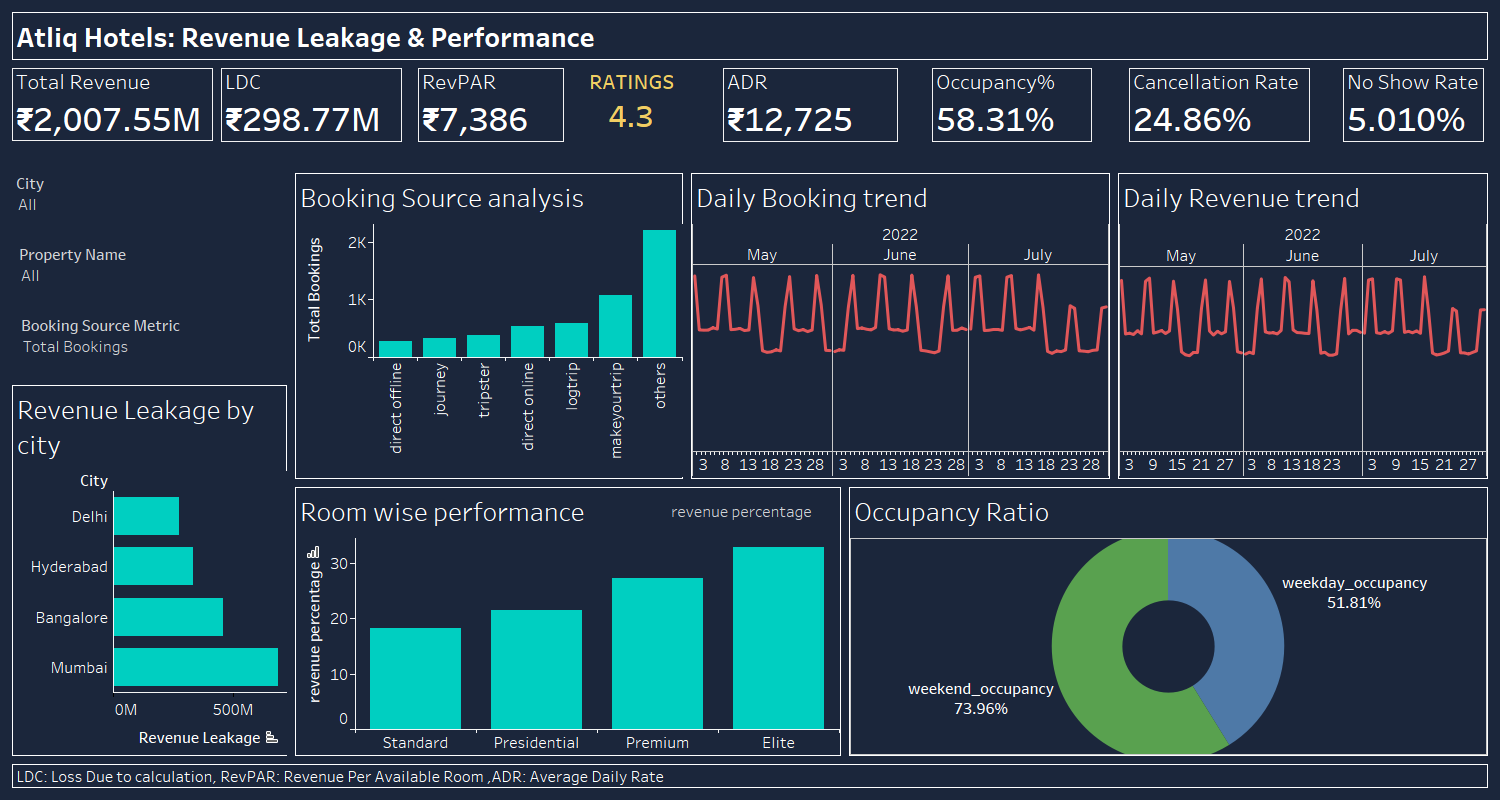

This screenshot's page, from the dashboard's own definition file:
{"tool":"tableau","page":{"name":"Dashboard 1 (2)","canvas":[1500,800],"ordinal":0},"visuals":[{"type":"title","box":[8,8,1484,56]},{"type":"worksheet","title":"Total Revenue","mark":"Automatic","box":[8,64,209,81]},{"type":"worksheet","title":"LDC","mark":"Automatic","box":[217,64,197,82]},{"type":"worksheet","title":"Revpar","mark":"Automatic","box":[414,64,167,82]},{"type":"worksheet","title":"Rating","mark":"Automatic","box":[581,64,138,77]},{"type":"worksheet","title":"Adr","mark":"Automatic","box":[719,64,209,82]},{"type":"worksheet","title":"Occupancy %","mark":"Automatic","box":[928,64,197,82]},{"type":"worksheet","title":"Cancillation rate","mark":"Automatic","box":[1125,64,214.3,82]},{"type":"worksheet","title":"No Show Rate","mark":"Automatic","box":[1339.3,64,152.7,82]},{"type":"worksheet","title":"Booking Source analysis","mark":"Automatic","rows":["Calculation_21392127470497808"],"cols":["booking_platform (booking_platform_data.csv)"],"box":[291,169.4,396,313.2]},{"type":"worksheet","title":"Daily Booking trend","mark":"Automatic","rows":["total_bookings"],"cols":["check_in_date (daily_booking_trend.csv)","check_in_date (daily_booking_trend.csv)","check_in_date (daily_booking_trend.csv)"],"box":[687,169.4,427,313.2]},{"type":"worksheet","title":"Daily Revenue trend","mark":"Automatic","rows":["daily_revenue"],"cols":["check_in_date (daily_revenue_trend.csv)","check_in_date (daily_revenue_trend.csv)","check_in_date (daily_revenue_trend.csv)"],"box":[1114,169.4,378,313.2]},{"type":"filter","title":"Total Revenue","param":"[federated.1bwgkvj0o043141128l9415vt62y].[none:city:nk]","box":[16,172,168,62]},{"type":"filter","title":"Total Revenue","param":"[federated.1bwgkvj0o043141128l9415vt62y].[none:property_name:nk]","box":[19,243,161,71]},{"type":"parameter","param":"[Parameters].[Parameter 2]","box":[21,314,163,48]},{"type":"worksheet","title":"Revenue Leakage by city","mark":"Automatic","rows":["city"],"cols":["revenue_leakage"],"box":[8,381,283,379]},{"type":"worksheet","title":"Room wise performance","mark":"Bar","rows":["Calculation_21392127413514255"],"cols":["room_type"],"box":[291,482.6,554,277.4]},{"type":"worksheet","title":"Occupancy Ratio","mark":"Pie","cols":["Calculation_21392127508181011","Calculation_21392127508226069"],"box":[845,482.6,647,277.4]},{"type":"parameter","param":"[Parameters].[Parameter 1]","box":[669,501,160,48]},{"type":"text","box":[8,760,1484,32]}]}

Visuals, with their boxes in screenshot pixels (x1, y1, x2, y2), scaled from the page's 1500x800 canvas onto the 1500x800 screenshot:
title: [8,8,1492,64]
"Total Revenue" worksheet: [8,64,217,145]
"LDC" worksheet: [217,64,414,146]
"Revpar" worksheet: [414,64,581,146]
"Rating" worksheet: [581,64,719,141]
"Adr" worksheet: [719,64,928,146]
"Occupancy %" worksheet: [928,64,1125,146]
"Cancillation rate" worksheet: [1125,64,1339,146]
"No Show Rate" worksheet: [1339,64,1492,146]
"Booking Source analysis" worksheet: [291,169,687,483]
"Daily Booking trend" worksheet: [687,169,1114,483]
"Daily Revenue trend" worksheet: [1114,169,1492,483]
"Total Revenue" filter: [16,172,184,234]
"Total Revenue" filter: [19,243,180,314]
parameter: [21,314,184,362]
"Revenue Leakage by city" worksheet: [8,381,291,760]
"Room wise performance" worksheet (Bar marks): [291,483,845,760]
"Occupancy Ratio" worksheet (Pie marks): [845,483,1492,760]
parameter: [669,501,829,549]
text: [8,760,1492,792]
